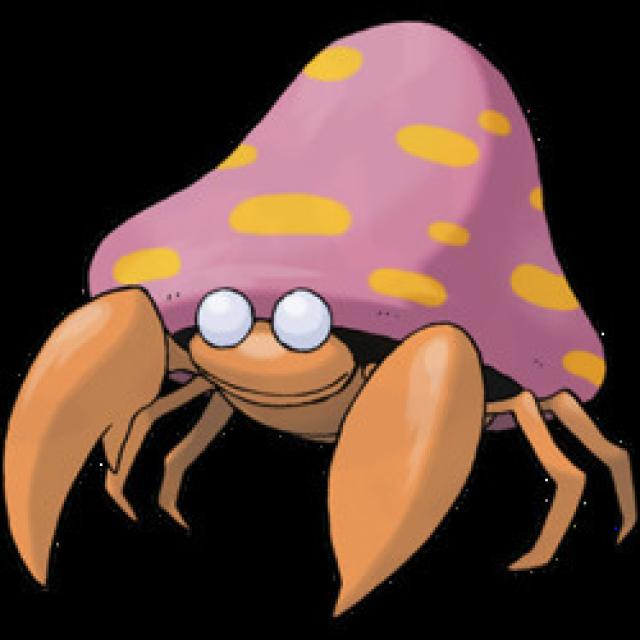Parasect: (46, 39, 564, 558)
